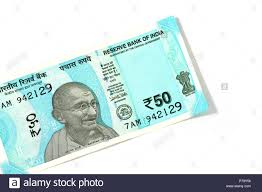fifty: (3, 88, 203, 141)
